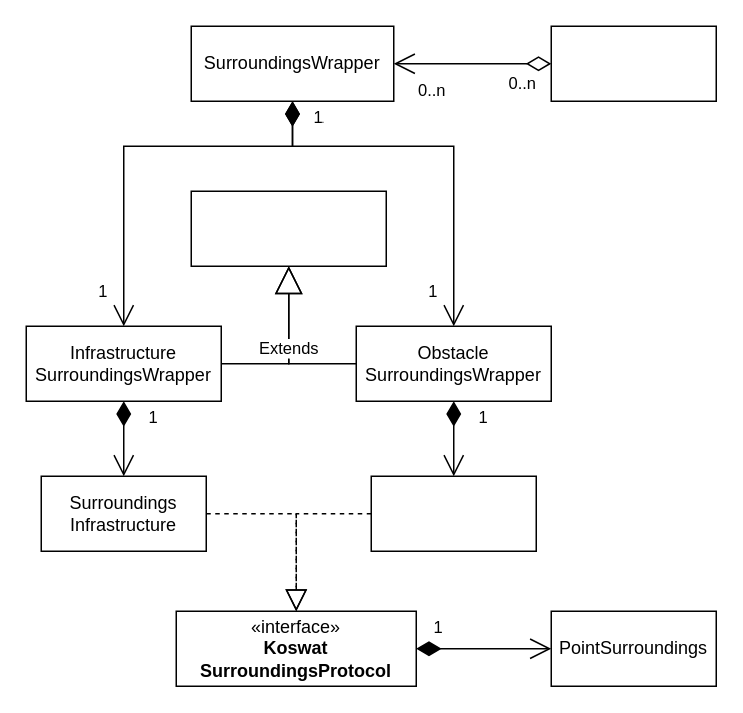
Image size: 743x713. Some labels were removed from this diagram. Each missing label, with the centre of its shape:
"Base SurroundingsWrapper" belongs at (288,228).
"KoswatRun ScenarioSettings" belongs at (633,63).
"Obstacle Infrastructure" belongs at (453,513).
